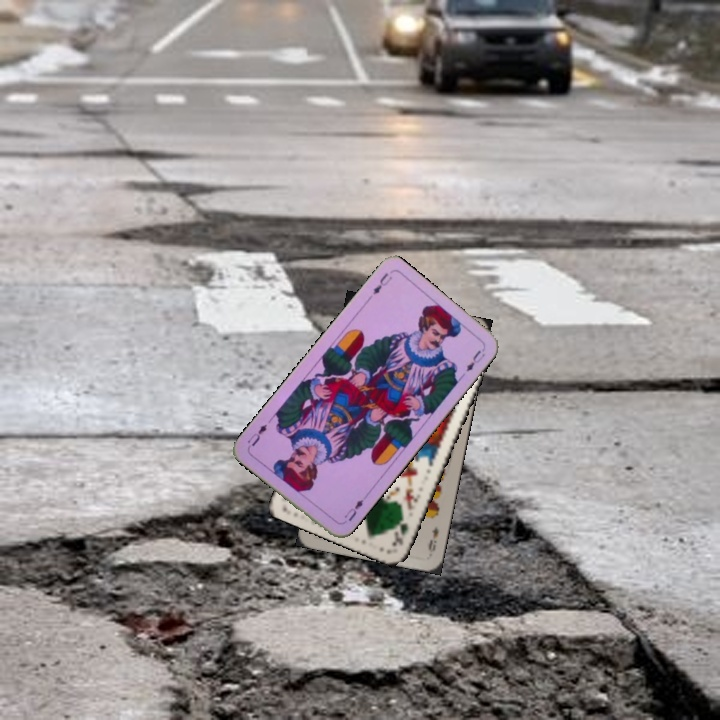E9: (424, 523, 441, 557)
EU: (340, 492, 369, 524), (368, 269, 395, 297)
GK: (387, 510, 411, 549)
